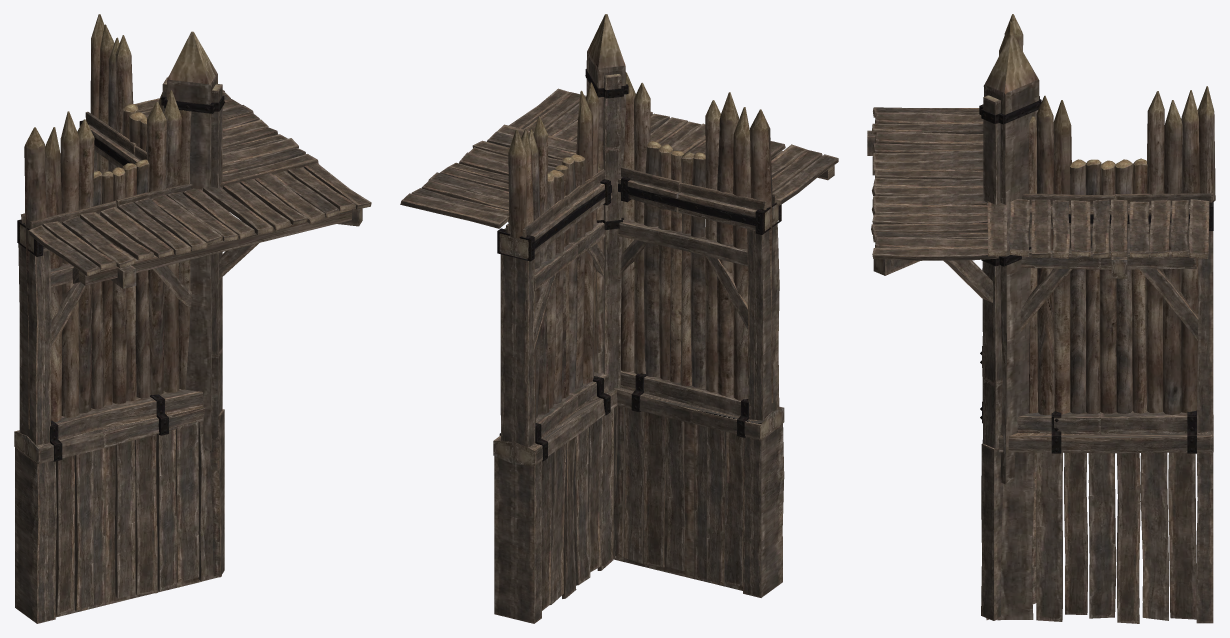
Rendered from jav_struc_def_ironwood_t2_rampart_out_a-transformed.glb.
3 views of the same model, side by side, from view 1: azimuth 30°, elevation 25°; view 2: azimuth 150°, elevation 25°; view 3: azimuth 270°, elevation 25° (orthographic). The views are drawn at different scales.
Parts seen in each view (by area): view 1: default; view 2: default; view 3: default.
Boxes of the visible parts, x1,y1,x2,y2 form: default: [14, 14, 371, 623]; default: [400, 14, 838, 623]; default: [867, 14, 1215, 623].
Size of the model in its own units: 6.97 by 12.58 by 6.84.
Materials: 1 (1 with a texture image).
